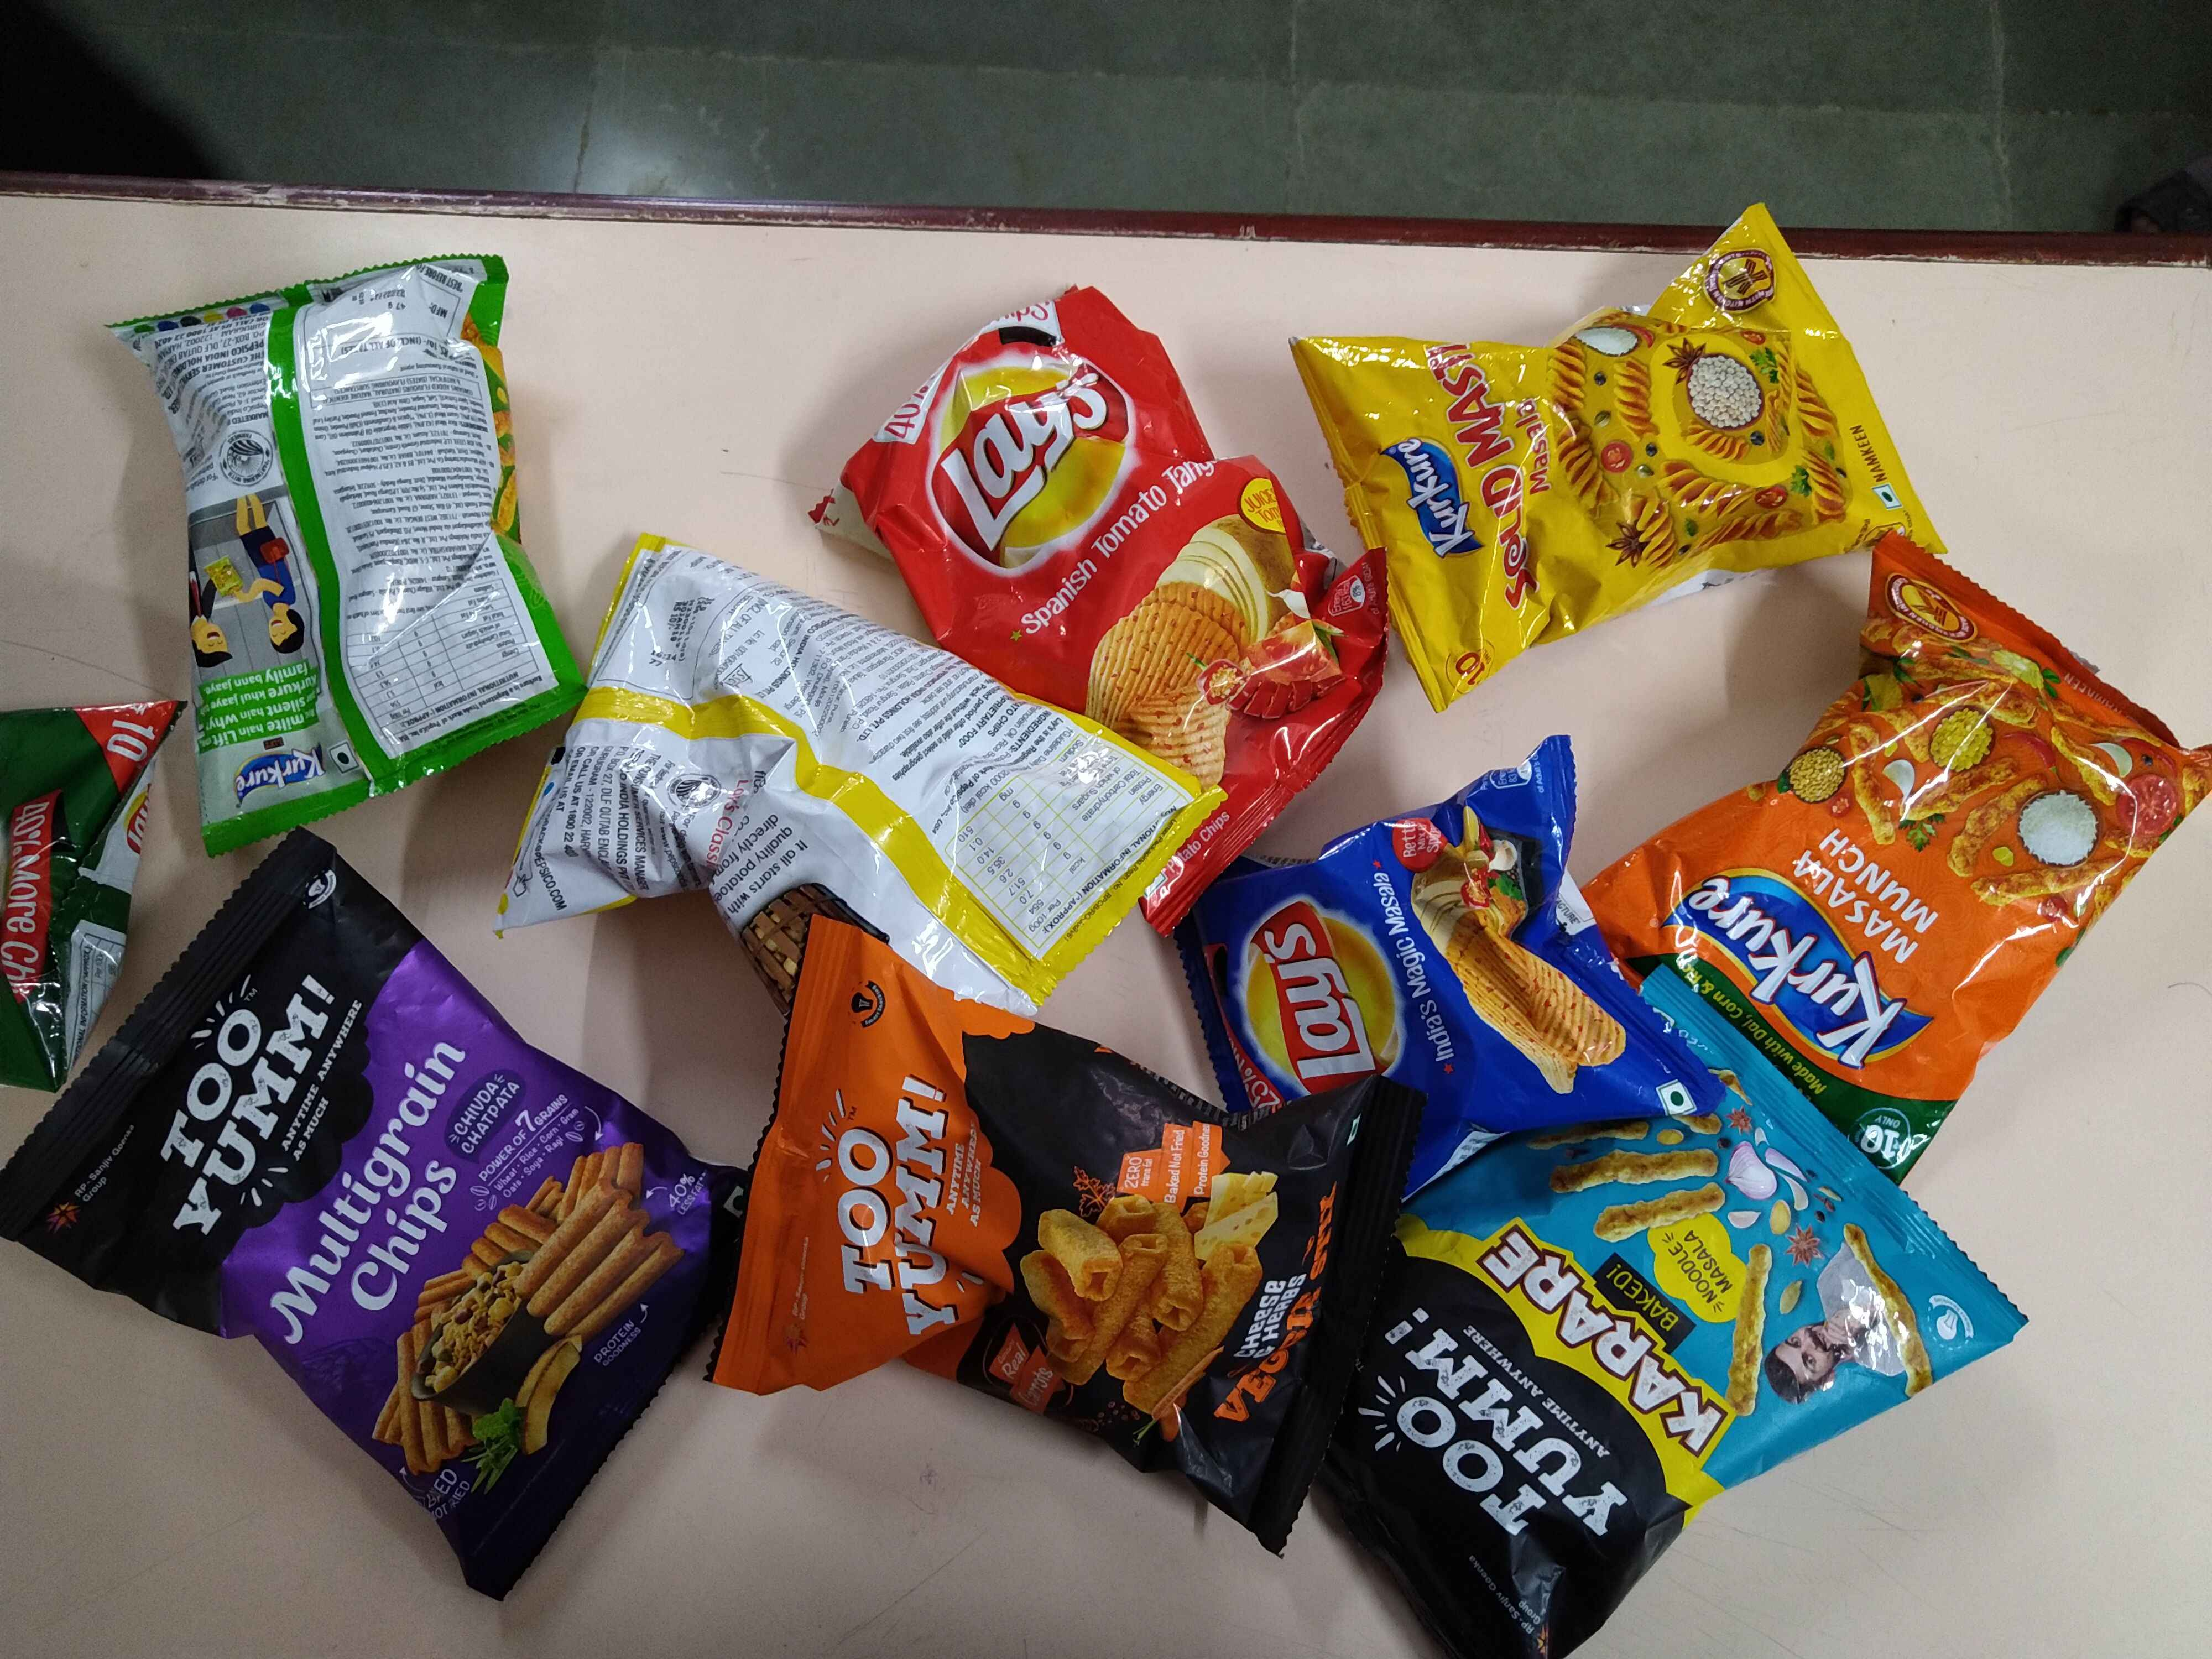Lays: (925, 350, 1144, 594), (1238, 890, 1420, 1100), (115, 788, 155, 866)
kurkure: (1669, 850, 1940, 1066), (1378, 420, 1498, 565), (216, 744, 340, 795)
tooyumm: (1366, 1305, 1632, 1554), (127, 957, 357, 1241), (822, 1061, 961, 1354)
